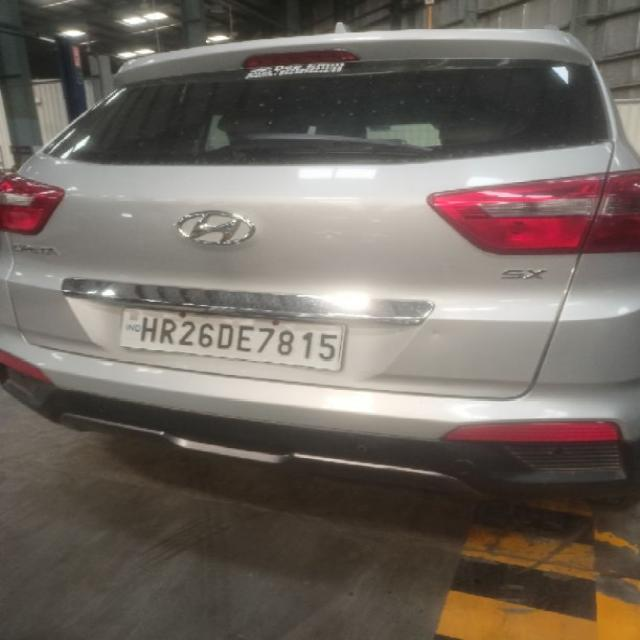license_plate: (117, 305, 347, 373)
